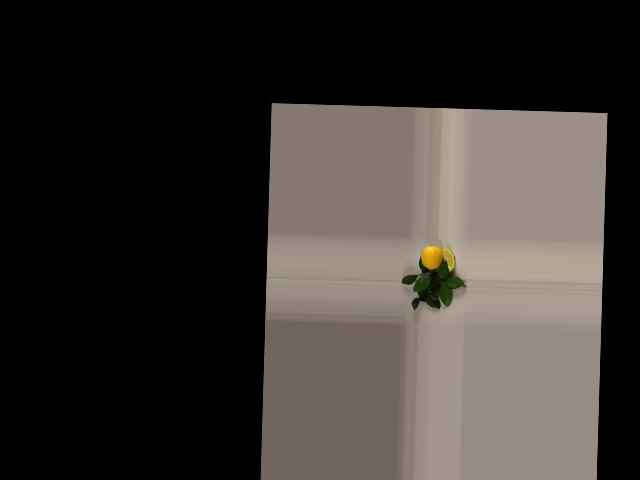lemon: (419, 245, 441, 272)
